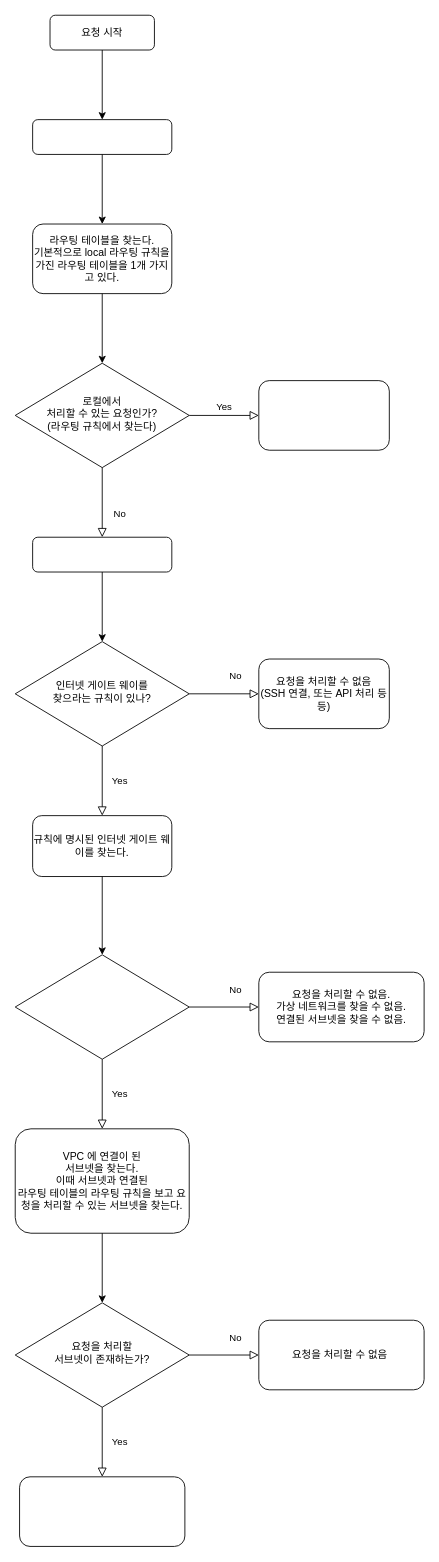
This 439x1562 diagram has some shape labels left out. Each missing label, with the centre of its shape:
VPC과 연결이 되어 있나?: the point at 101,1006
다른 라우팅 규칙을 찾는다.: the point at 102,554
서브넷이 요청을 받음: the point at 102,136
요청 처리: the point at 102,1511
요청을 받은 서브넷이 연결된 EC2으로 요청을 처리한다.: the point at 323,415
